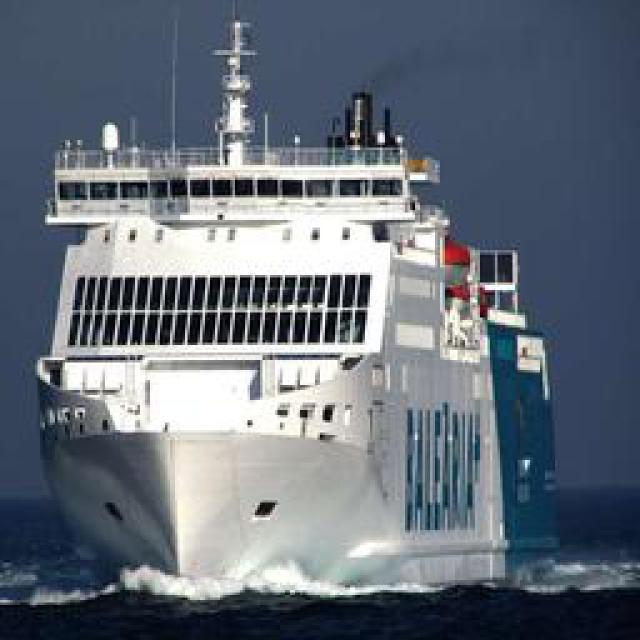Ship: (28, 38, 566, 603)
